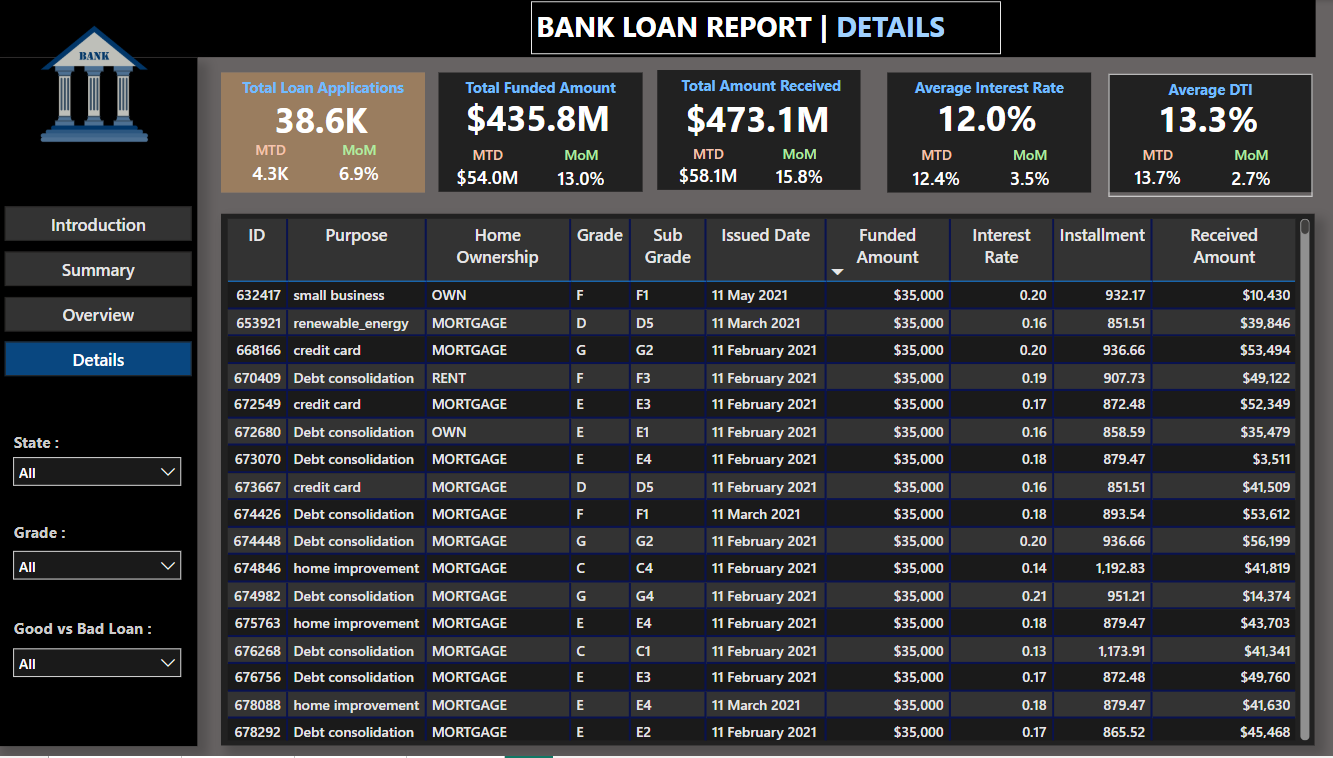

What the dashboard file says about the page in this screenshot:
{"tool":"powerbi","page":{"name":"Details","canvas":[1280,720],"ordinal":3},"visuals":[{"type":"shape","box":[629.2,66.4,193.8,114.2],"z":0,"group":"g3"},{"type":"shape","box":[214.3,68.6,194.3,114.3],"z":0,"group":"g1"},{"type":"shape","box":[421.4,68.6,194.5,114],"z":0,"group":"g2"},{"type":"shape","box":[848.8,68.6,194.2,114.3],"z":0,"group":"g4"},{"type":"shape","box":[1059.3,69.8,194.5,113.1],"z":0,"group":"g5"},{"type":"shape","box":[214.7,203.7,1041.9,506.5],"z":0},{"type":"shape","box":[0,0,1257,54.7],"z":1000},{"type":"card","fields":{"Values":["table_measures.total_loan_appl"]},"box":[247.2,83.2,124.3,61.3],"z":1000,"group":"g1"},{"type":"card","fields":{"Values":["table_measures.total_funded_amt"]},"box":[433.2,83.2,165.9,58.4],"z":1000,"group":"g2"},{"type":"card","fields":{"Values":["table_measures.avg_interest_rate"]},"box":[860.6,83.2,165.6,58.6],"z":1000,"group":"g4"},{"type":"card","fields":{"Values":["table_measures.avg_DTI"]},"box":[1071.1,84.3,165.9,57.9],"z":1000,"group":"g5"},{"type":"card","fields":{"Values":["table_measures.total_received_amt"]},"box":[643.2,85.3,163.1,55.8],"z":1000,"group":"g3"},{"type":"shape","box":[0,54.7,191.9,655.8],"z":2000},{"type":"textbox","box":[632.2,67,191,41.6],"z":2000,"group":"g3"},{"type":"textbox","box":[214.3,68.6,194.3,39],"z":2000,"group":"g1"},{"type":"textbox","box":[421.4,68.6,194.5,38.9],"z":2000,"group":"g2"},{"type":"textbox","box":[848.8,68.6,194.2,39],"z":2000,"group":"g4"},{"type":"textbox","box":[1059.3,69.8,194.5,38.6],"z":2000,"group":"g5"},{"type":"card","title":"MTD","fields":{"Values":["table_measures.MTD_loan_appl"]},"box":[235.7,132.7,51.4,50.2],"z":3000,"group":"g1"},{"type":"card","title":"MTD","fields":{"Values":["table_measures.MTD_received_amt"]},"box":[643.2,137.1,68.9,46.5],"z":3000,"group":"g3"},{"type":"card","title":"MTD","fields":{"Values":["table_measures.MTD_funded_amt"]},"box":[433.2,137.4,70.1,48.6],"z":3000,"group":"g2"},{"type":"card","title":"MTD","fields":{"Values":["table_measures.MTD_interest_rate"]},"box":[860.6,137.6,70,48.8],"z":3000,"group":"g4"},{"type":"card","title":"MTD","fields":{"Values":["table_measures.MTD_avg_DTI"]},"box":[1071.1,138.1,70.1,48.3],"z":3000,"group":"g5"},{"type":"textbox","box":[12.4,406,119.7,38.5],"z":3000},{"type":"textbox","box":[509.2,1.4,447.3,49.5],"z":4000},{"type":"card","title":"MoM","fields":{"Values":["table_measures.MOM_loan_appl"]},"box":[320,132.7,51.4,50.2],"z":4000,"group":"g1"},{"type":"card","title":"MoM","fields":{"Values":["table_measures.MOM_received_amt"]},"box":[736.7,136.9,56.8,47.5],"z":4000,"group":"g3"},{"type":"card","title":"MoM","fields":{"Values":["table_measures.MOM_funded_amt"]},"box":[528.3,137.2,57.8,49.7],"z":4000,"group":"g2"},{"type":"card","title":"MoM","fields":{"Values":["table_measures.MOM_interest_rate"]},"box":[955.6,137.4,57.7,49.8],"z":4000,"group":"g4"},{"type":"card","title":"MoM","fields":{"Values":["table_measures.MOM_avg_DTI"]},"box":[1166.2,137.9,57.8,49.3],"z":4000,"group":"g5"},{"type":"group","id":"g1","title":"Group 1","box":[214.3,68.6,194.3,114.3],"z":5000},{"type":"group","id":"g2","title":"Group 1","box":[421.4,68.6,194.3,118],"z":6000},{"type":"group","id":"g3","title":"Group 1","box":[629.2,66.4,194,118],"z":7000},{"type":"group","id":"g4","title":"Group 1","box":[848.8,68.6,194.2,118.6],"z":8000},{"type":"group","id":"g5","title":"Group 1","box":[1059.3,69.8,194.2,117.4],"z":9000},{"type":"slicer","fields":{"Values":["financial_loan.address_state"]},"box":[5.5,425.3,180.3,50.9],"z":10000},{"type":"slicer","fields":{"Values":["financial_loan.grade"]},"box":[5.5,514.8,180.3,50.9],"z":11000},{"type":"textbox","box":[12.4,491.4,119.7,38.5],"z":12000},{"type":"slicer","fields":{"Values":["financial_loan.Good vs Band Loan"]},"box":[5.5,607,180.3,50.9],"z":13000},{"type":"textbox","box":[12.4,583.6,163.8,38.5],"z":14000},{"type":"tableEx","fields":{"Values":["financial_loan.id","financial_loan.purpose","financial_loan.home_ownership","financial_loan.grade","financial_loan.sub_grade","financial_loan.issue_date","table_measures.total_funded_amt","Sum(financial_loan.int_rate)","Sum(financial_loan.installment)","table_measures.total_received_amt"]},"box":[214.7,203.7,1041.9,506.5],"z":15000},{"type":"pageNavigator","box":[8.3,196.8,178.9,163.8],"z":16000},{"type":"image","box":[0,1.4,187.2,156.9],"z":17000}]}

Visuals, with their boxes in screenshot pixels (x1, y1, x2, y2), scaled from the page's 1280x720 canvas onto the 1333x758 screenshot:
shape: x1=655 y1=70 x2=857 y2=190
shape: x1=223 y1=72 x2=426 y2=193
shape: x1=439 y1=72 x2=641 y2=192
shape: x1=884 y1=72 x2=1086 y2=193
shape: x1=1103 y1=73 x2=1306 y2=193
shape: x1=224 y1=214 x2=1309 y2=748
shape: x1=0 y1=0 x2=1309 y2=58
card - table_measures.total_loan_appl: x1=257 y1=88 x2=387 y2=152
card - table_measures.total_funded_amt: x1=451 y1=88 x2=624 y2=149
card - table_measures.avg_interest_rate: x1=896 y1=88 x2=1069 y2=149
card - table_measures.avg_DTI: x1=1115 y1=89 x2=1288 y2=150
card - table_measures.total_received_amt: x1=670 y1=90 x2=840 y2=149
shape: x1=0 y1=58 x2=200 y2=748
textbox: x1=658 y1=71 x2=857 y2=114
textbox: x1=223 y1=72 x2=426 y2=113
textbox: x1=439 y1=72 x2=641 y2=113
textbox: x1=884 y1=72 x2=1086 y2=113
textbox: x1=1103 y1=73 x2=1306 y2=114
"MTD" card: x1=245 y1=140 x2=299 y2=193
"MTD" card: x1=670 y1=144 x2=742 y2=193
"MTD" card: x1=451 y1=145 x2=524 y2=196
"MTD" card: x1=896 y1=145 x2=969 y2=196
"MTD" card: x1=1115 y1=145 x2=1188 y2=196
textbox: x1=13 y1=427 x2=138 y2=468
textbox: x1=530 y1=1 x2=996 y2=54
"MoM" card: x1=333 y1=140 x2=387 y2=193
"MoM" card: x1=767 y1=144 x2=826 y2=194
"MoM" card: x1=550 y1=144 x2=610 y2=197
"MoM" card: x1=995 y1=145 x2=1055 y2=197
"MoM" card: x1=1214 y1=145 x2=1275 y2=197
"Group 1" group: x1=223 y1=72 x2=426 y2=193
"Group 1" group: x1=439 y1=72 x2=641 y2=196
"Group 1" group: x1=655 y1=70 x2=857 y2=194
"Group 1" group: x1=884 y1=72 x2=1086 y2=197
"Group 1" group: x1=1103 y1=73 x2=1305 y2=197
slicer - financial_loan.address_state: x1=6 y1=448 x2=193 y2=501
slicer - financial_loan.grade: x1=6 y1=542 x2=193 y2=596
textbox: x1=13 y1=517 x2=138 y2=558
slicer - financial_loan.Good vs Band Loan: x1=6 y1=639 x2=193 y2=693
textbox: x1=13 y1=614 x2=183 y2=655
tableEx - financial_loan.id x financial_loan.purpose: x1=224 y1=214 x2=1309 y2=748
pageNavigator: x1=9 y1=207 x2=195 y2=380
image: x1=0 y1=1 x2=195 y2=167
